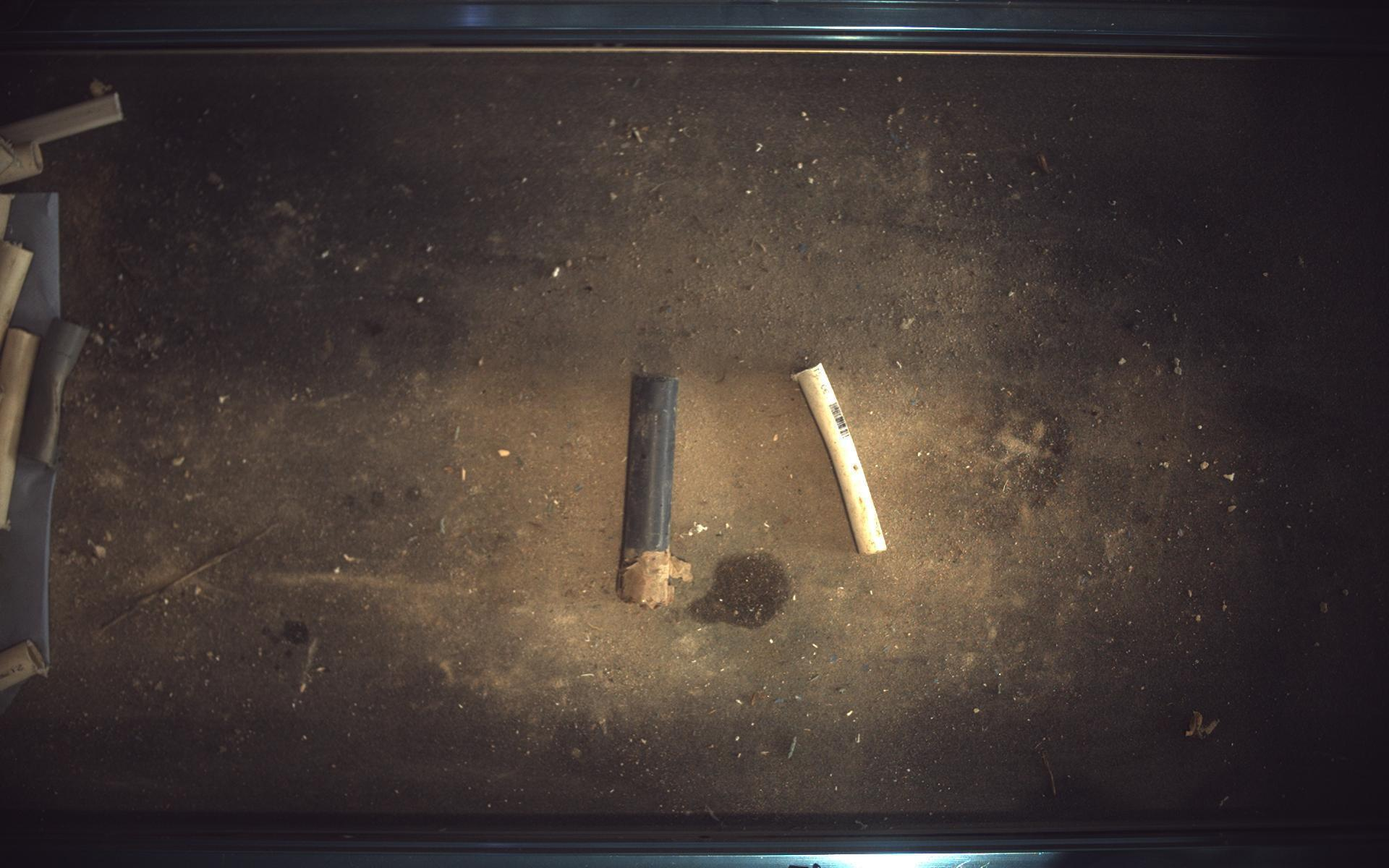pipes: (793, 363, 888, 555), (619, 374, 693, 609)
